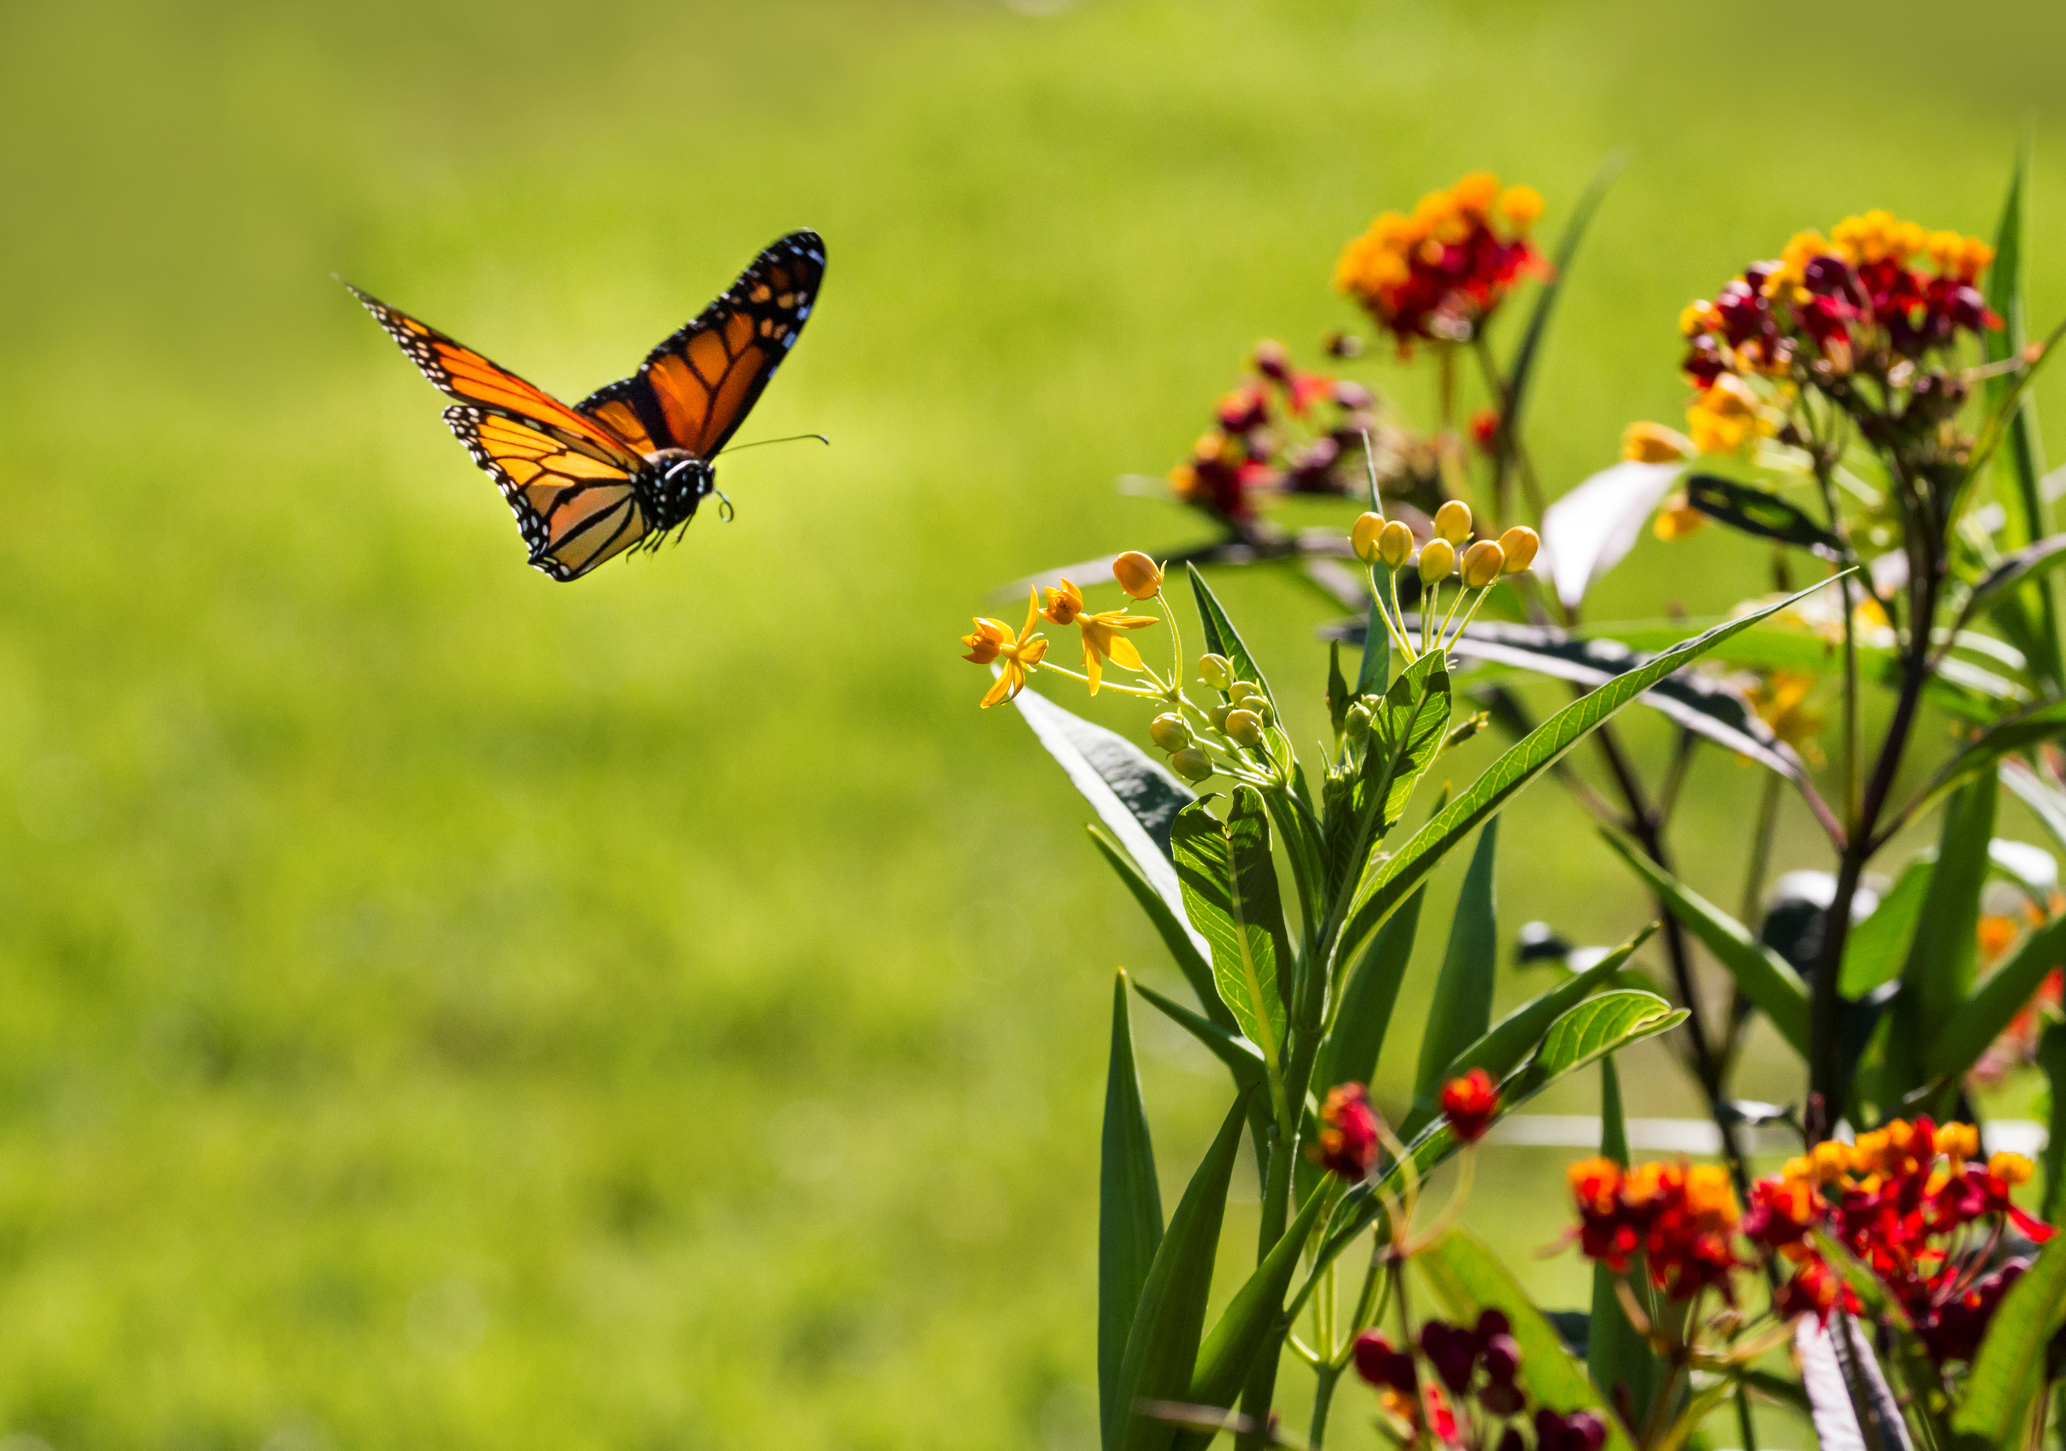Butterfly: (325, 228, 823, 587)
